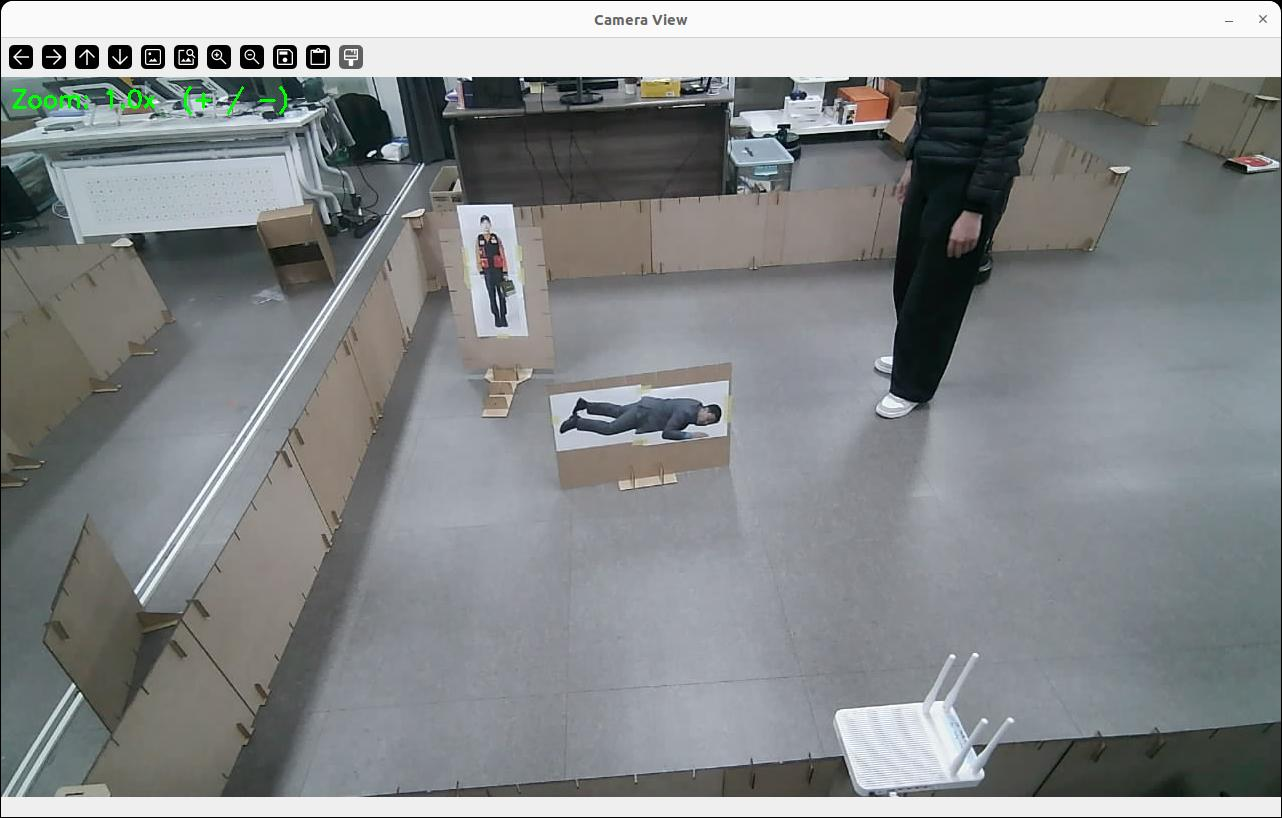Patient: (561, 397, 720, 440)
Responder: (478, 216, 507, 327)
